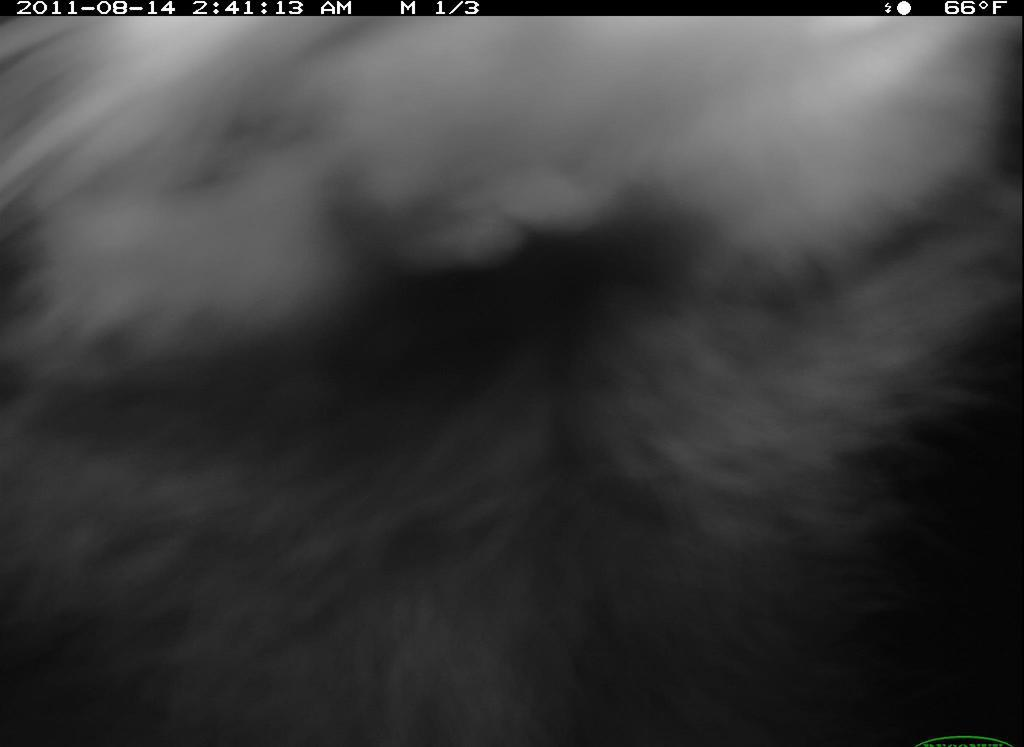raccoon: (16, 18, 1007, 722)
